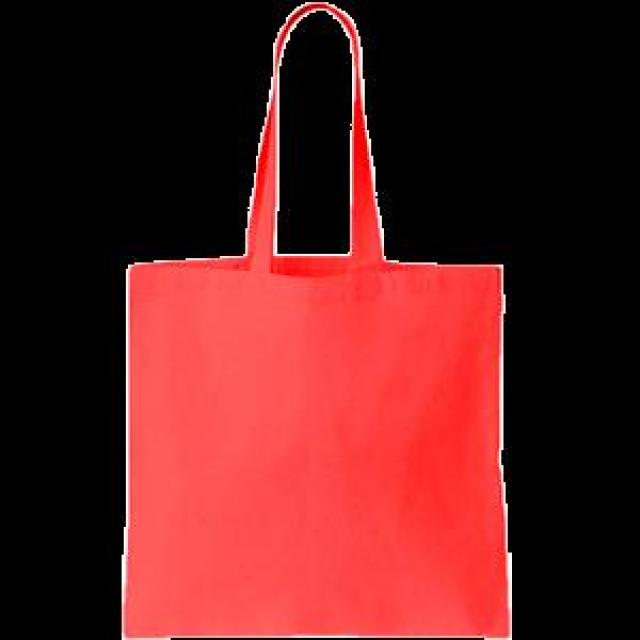plastic_bag: (96, 1, 546, 640)
